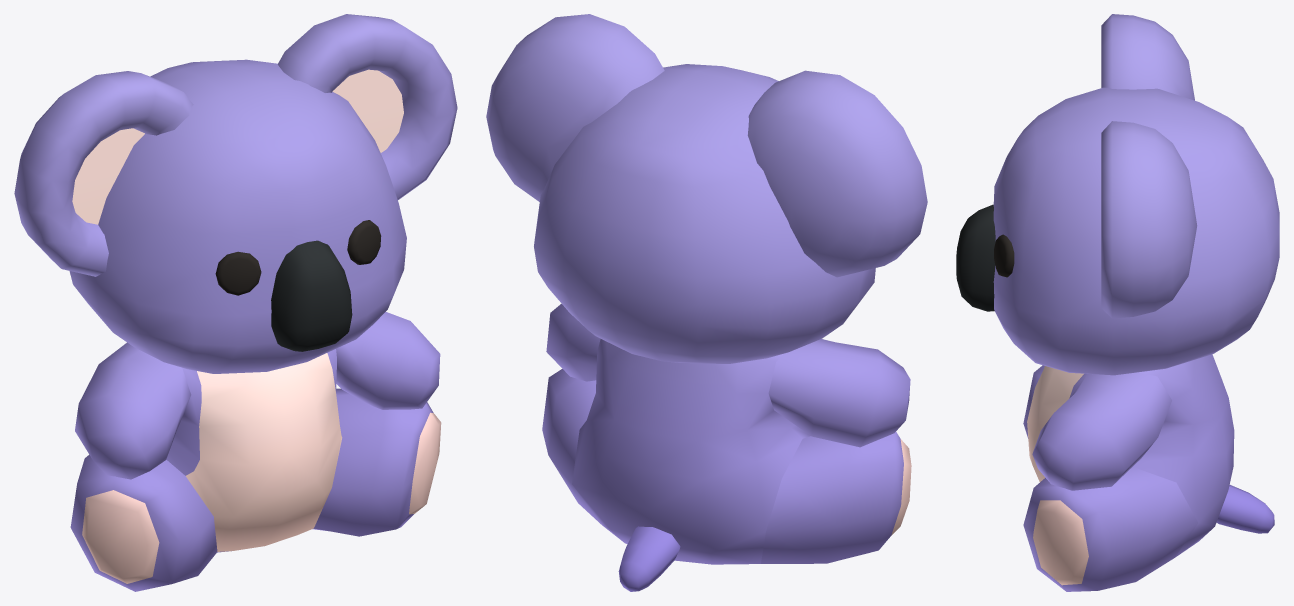
Rendered from koala.glb.
3 renders of one model, left to right at view 1: azimuth 30°, elevation 25°; view 2: azimuth 150°, elevation 25°; view 3: azimuth 270°, elevation 25°, orthographic. The views are drawn at different scales.
Visible parts, largest first — view 1: Koala_01; view 2: Koala_01; view 3: Koala_01.
Boxes of the visible parts, x1,y1,x2,y2 form: Koala_01: (14,14,457,591); Koala_01: (486,14,927,591); Koala_01: (956,14,1279,591).
Bounding box in the file's own units: 0.3978 × 0.442 × 0.2796.
2 materials, 2 textured.
